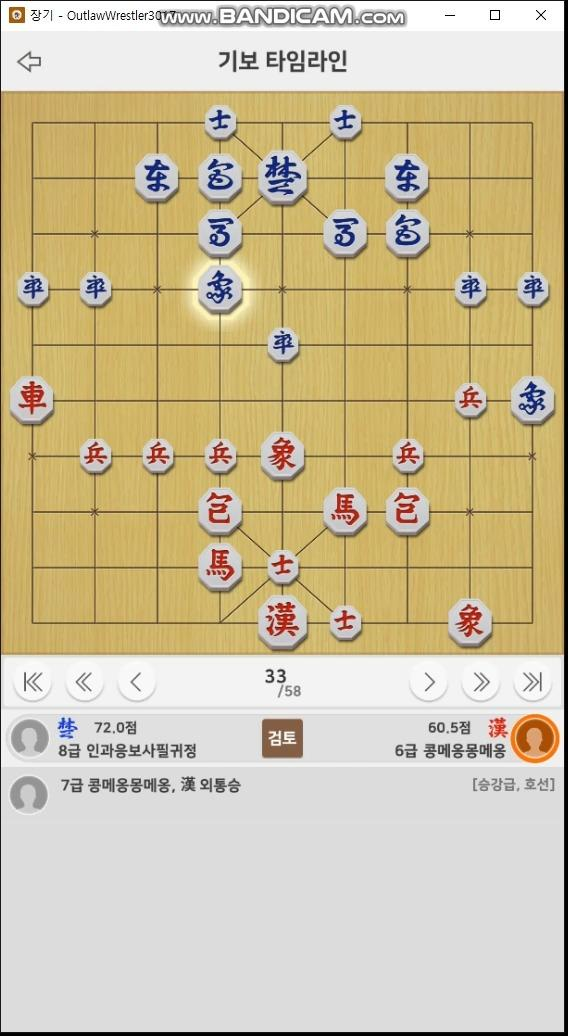cha_green: (133, 153, 178, 205), (384, 154, 429, 201)
cha_red: (11, 374, 54, 423)
jol_green: (79, 271, 115, 306), (515, 272, 550, 307), (267, 327, 301, 363), (455, 271, 488, 308), (17, 270, 50, 305)
jol_red: (142, 438, 173, 475), (393, 439, 424, 475), (456, 383, 486, 420), (82, 439, 112, 474), (207, 440, 236, 476)
ma_green: (323, 210, 368, 258), (198, 211, 244, 255)
ma_red: (323, 485, 368, 536), (199, 543, 242, 590)
po_green: (198, 155, 242, 202), (387, 209, 430, 257)
po_red: (386, 488, 430, 534), (199, 489, 243, 534)
sa_green: (328, 105, 364, 142), (203, 105, 239, 139)
sa_red: (267, 549, 299, 585), (330, 605, 362, 638)
sang_green: (510, 376, 555, 422), (199, 266, 243, 313)
sang_red: (262, 433, 304, 479), (448, 600, 490, 646)
wang_green: (259, 149, 308, 202)
wang_red: (258, 599, 308, 645)
